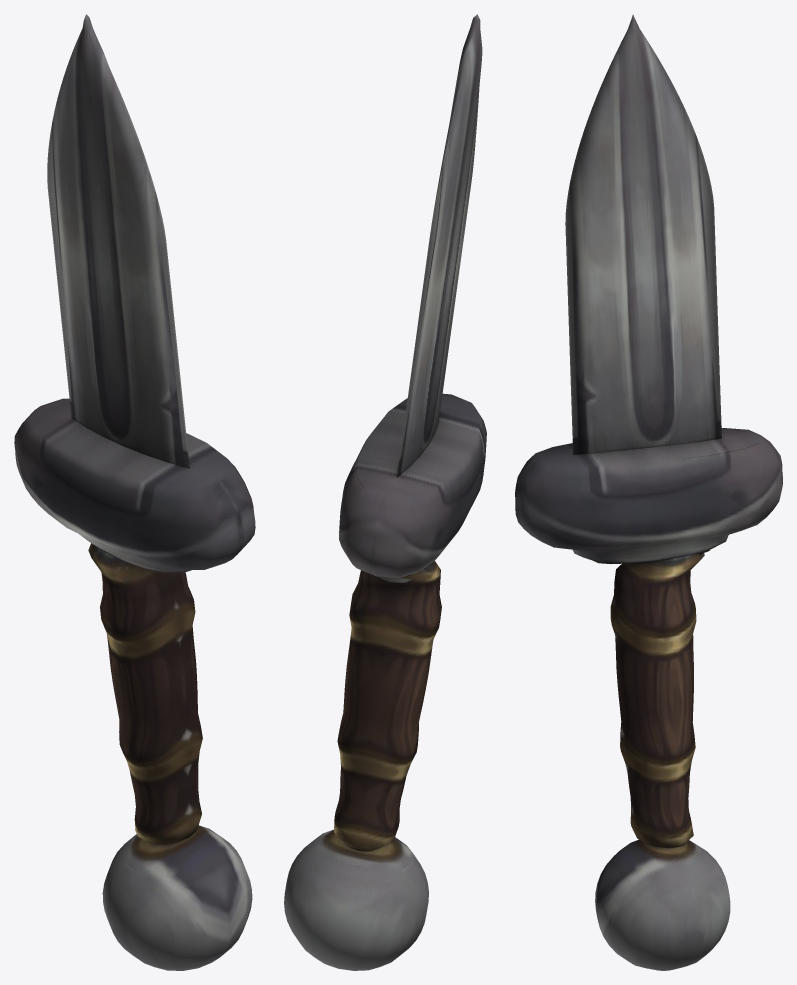
The model's file is dagger.glb.
The picture shows the model from 3 angles, left to right: view 1: azimuth 30°, elevation 25°; view 2: azimuth 150°, elevation 25°; view 3: azimuth 270°, elevation 25°; orthographic projection. The views are drawn at different scales.
Parts seen in each view (by area): view 1: dagger_ball3; view 2: dagger_ball3; view 3: dagger_ball3.
Boxes of the visible parts, <box> form: dagger_ball3: <box>14,14,255,970</box>; dagger_ball3: <box>284,14,486,970</box>; dagger_ball3: <box>515,14,782,970</box>.
Bounding box in the file's own units: 0.0783 × 0.413 × 0.111.
1 material, 1 textured.
